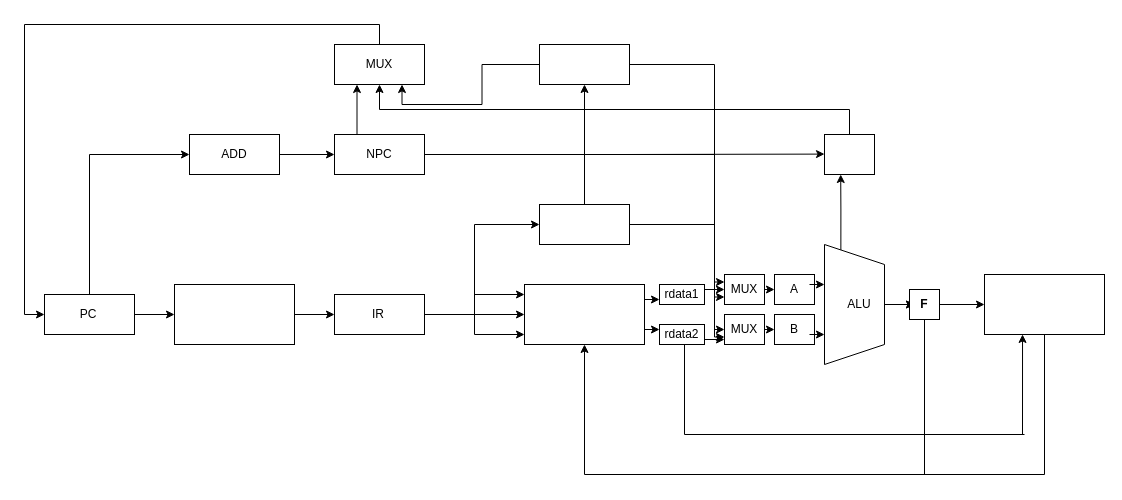
Some shapes in this 1122 by 500 pixel diagram are drawn without their labels. The shapes that lost their labels are listed below. From the top down, each one's centre as x and y in pixels, then its label:
the point at 584,64: Extend
the point at 849,154: Zero
the point at 584,224: Imm
the point at 234,314: Instr_mem
the point at 584,314: 寄存器组
the point at 1044,304: data_mem
